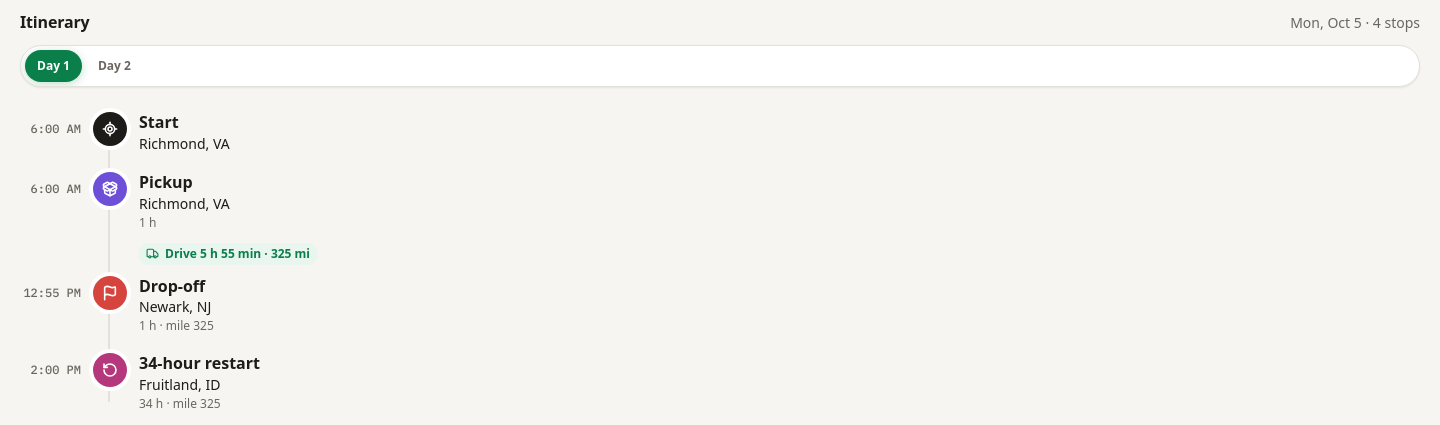
Itinerary › explains a day that is spent entirely in a restart
The width and height of the screenshot is (1440, 425).
Click the tab "Day 2".
click(114, 66)  # box [86,50,143,82]
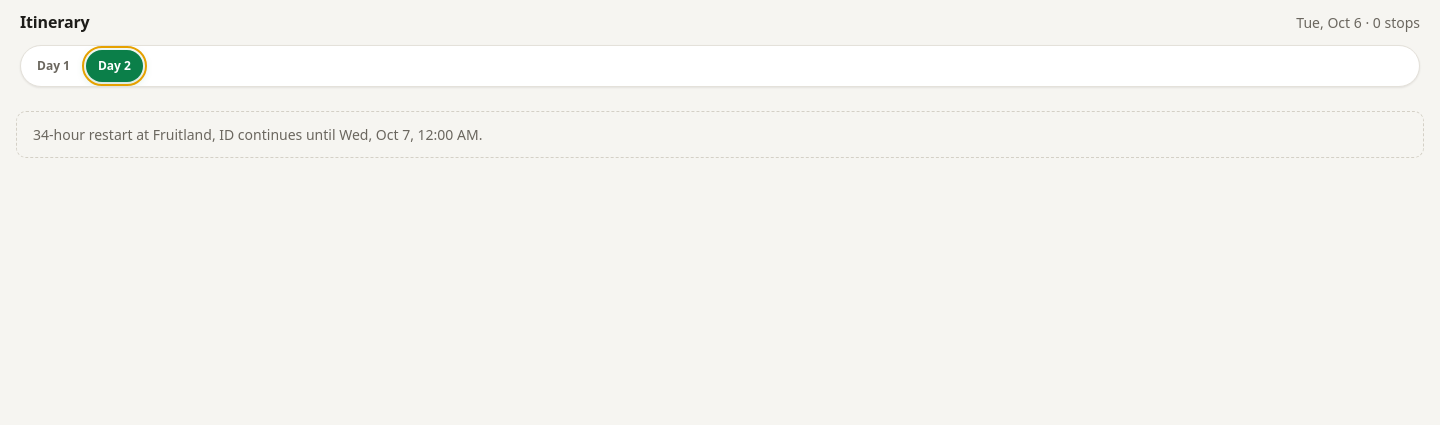
Result: the text "34-hour restart at Fruitland, ID continues until" is shown at [16,111,1424,158]
